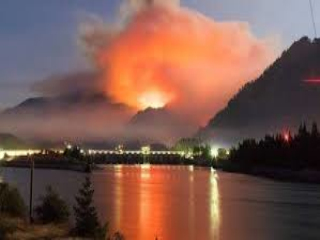fire: (135, 94, 170, 115)
smoke: (65, 12, 285, 126)
